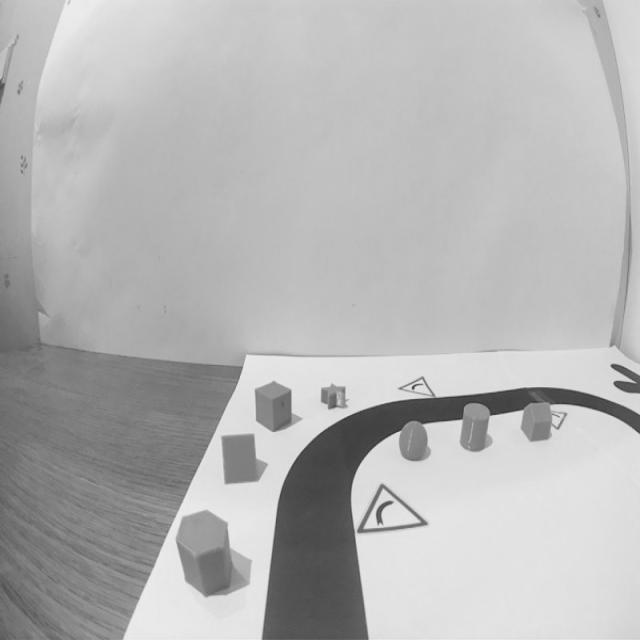ball: (395, 417, 432, 464)
cylinder: (251, 374, 295, 436), (458, 399, 491, 455)
hexagon: (172, 508, 242, 600)
home: (518, 399, 556, 445)
lineStraight: (255, 489, 378, 640)
star: (317, 380, 350, 413)
triangle: (218, 430, 262, 489)
